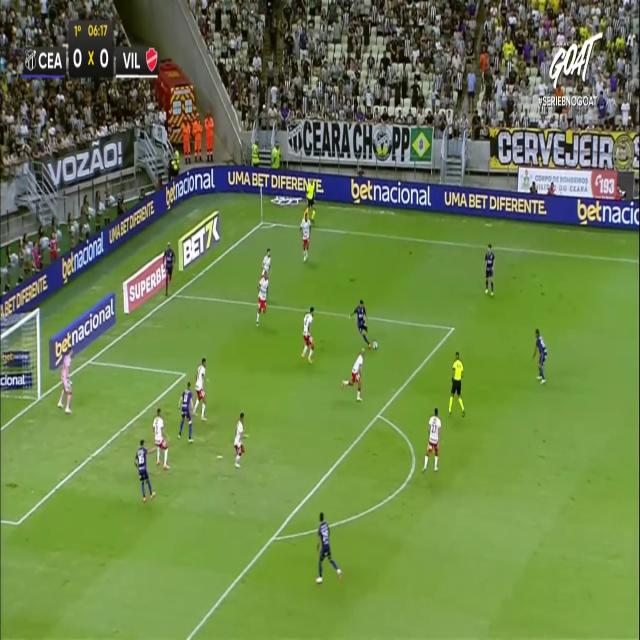ball: (371, 341, 381, 353)
goalkeeper: (57, 345, 73, 413)
player: (315, 511, 342, 583), (134, 438, 156, 502), (341, 346, 365, 402), (421, 406, 441, 472), (349, 299, 372, 349), (177, 380, 194, 443), (153, 407, 170, 469), (192, 357, 208, 421), (531, 328, 547, 384), (300, 306, 314, 363), (256, 270, 269, 327), (163, 241, 175, 296), (300, 210, 312, 262), (233, 412, 244, 468), (484, 243, 494, 296)
referee: (447, 350, 465, 417)
